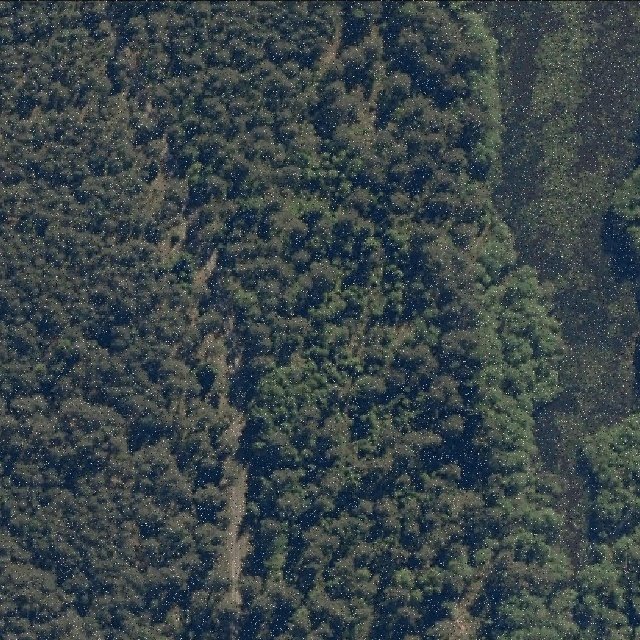vegetation: (104, 0, 640, 640), (609, 162, 640, 261)
